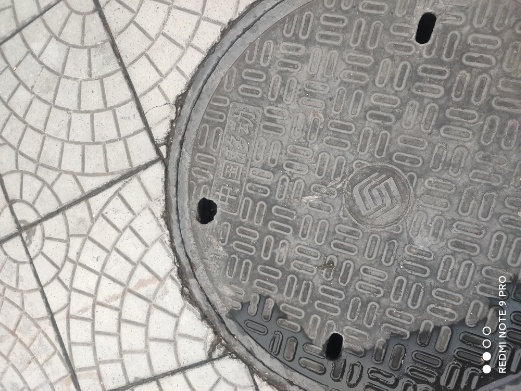broke: (169, 1, 521, 386)
